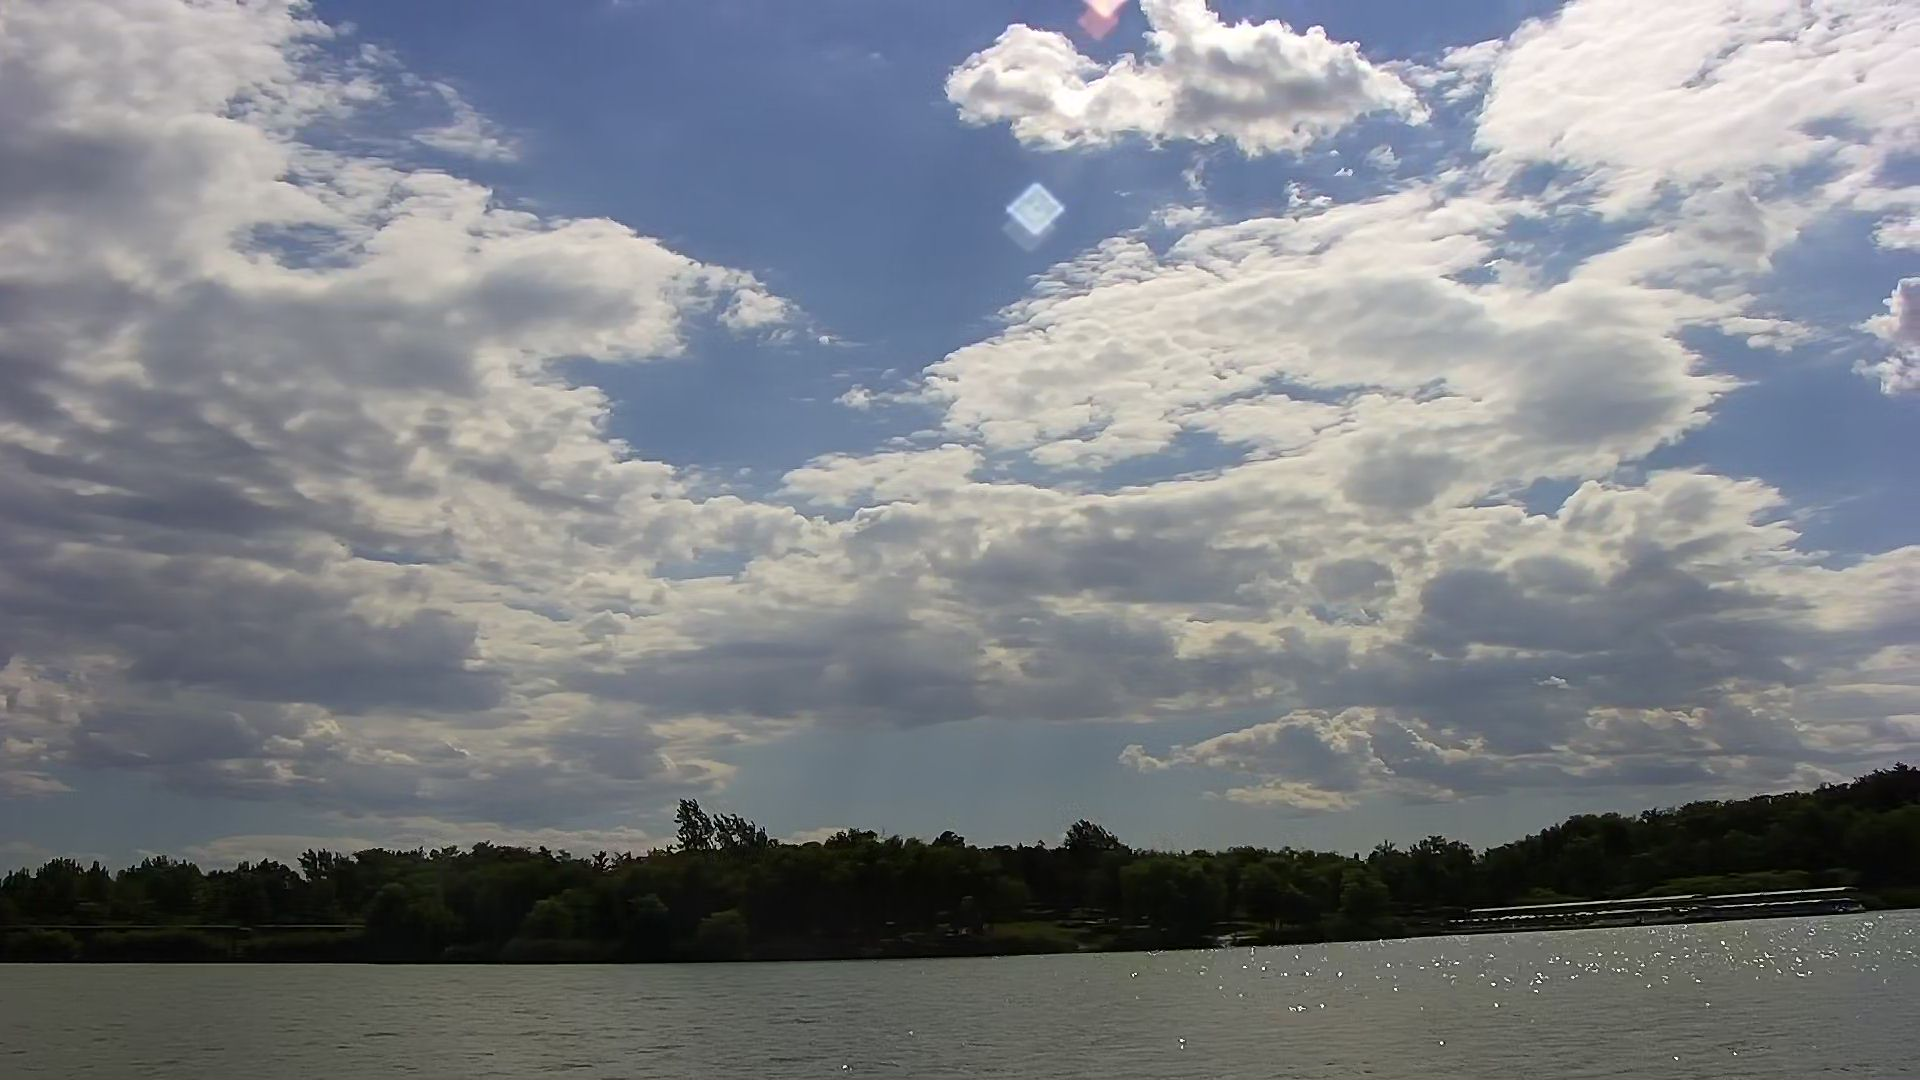harbor: (1431, 884, 1886, 939)
